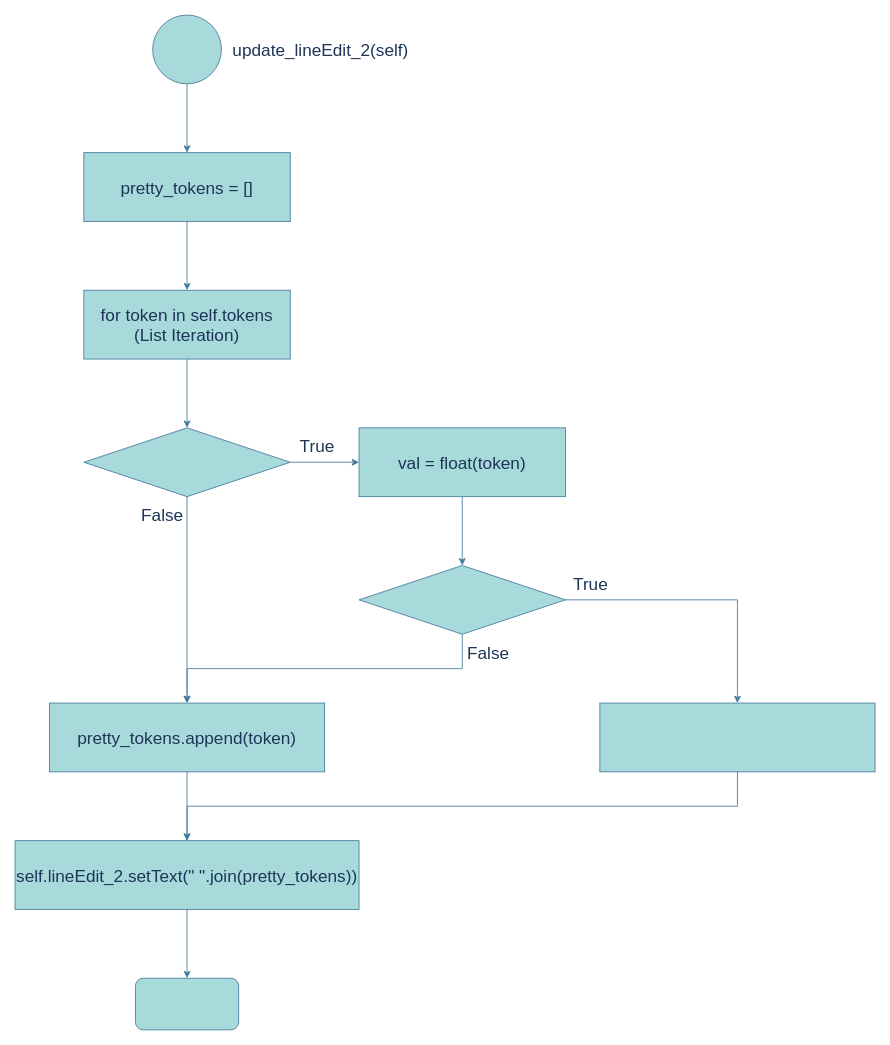
Image size: 890x1045. Some labels were removed from this diagram. Here are the shapes that lost their labels. From the top down, the centre of each, then its label:
(x=186, y=462): self.is_number(token)
(x=461, y=599): val.is_integer()
(x=737, y=737): pretty_tokens.append(str(int(val)))
